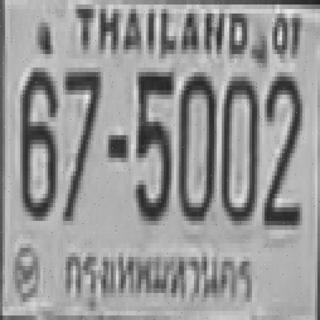N00: (176, 67, 214, 216), (219, 72, 257, 221)
N02: (262, 70, 300, 223)
N05: (134, 67, 172, 216)
N06: (18, 63, 56, 216)
N07: (62, 68, 100, 221)
P04: (58, 242, 256, 320)
